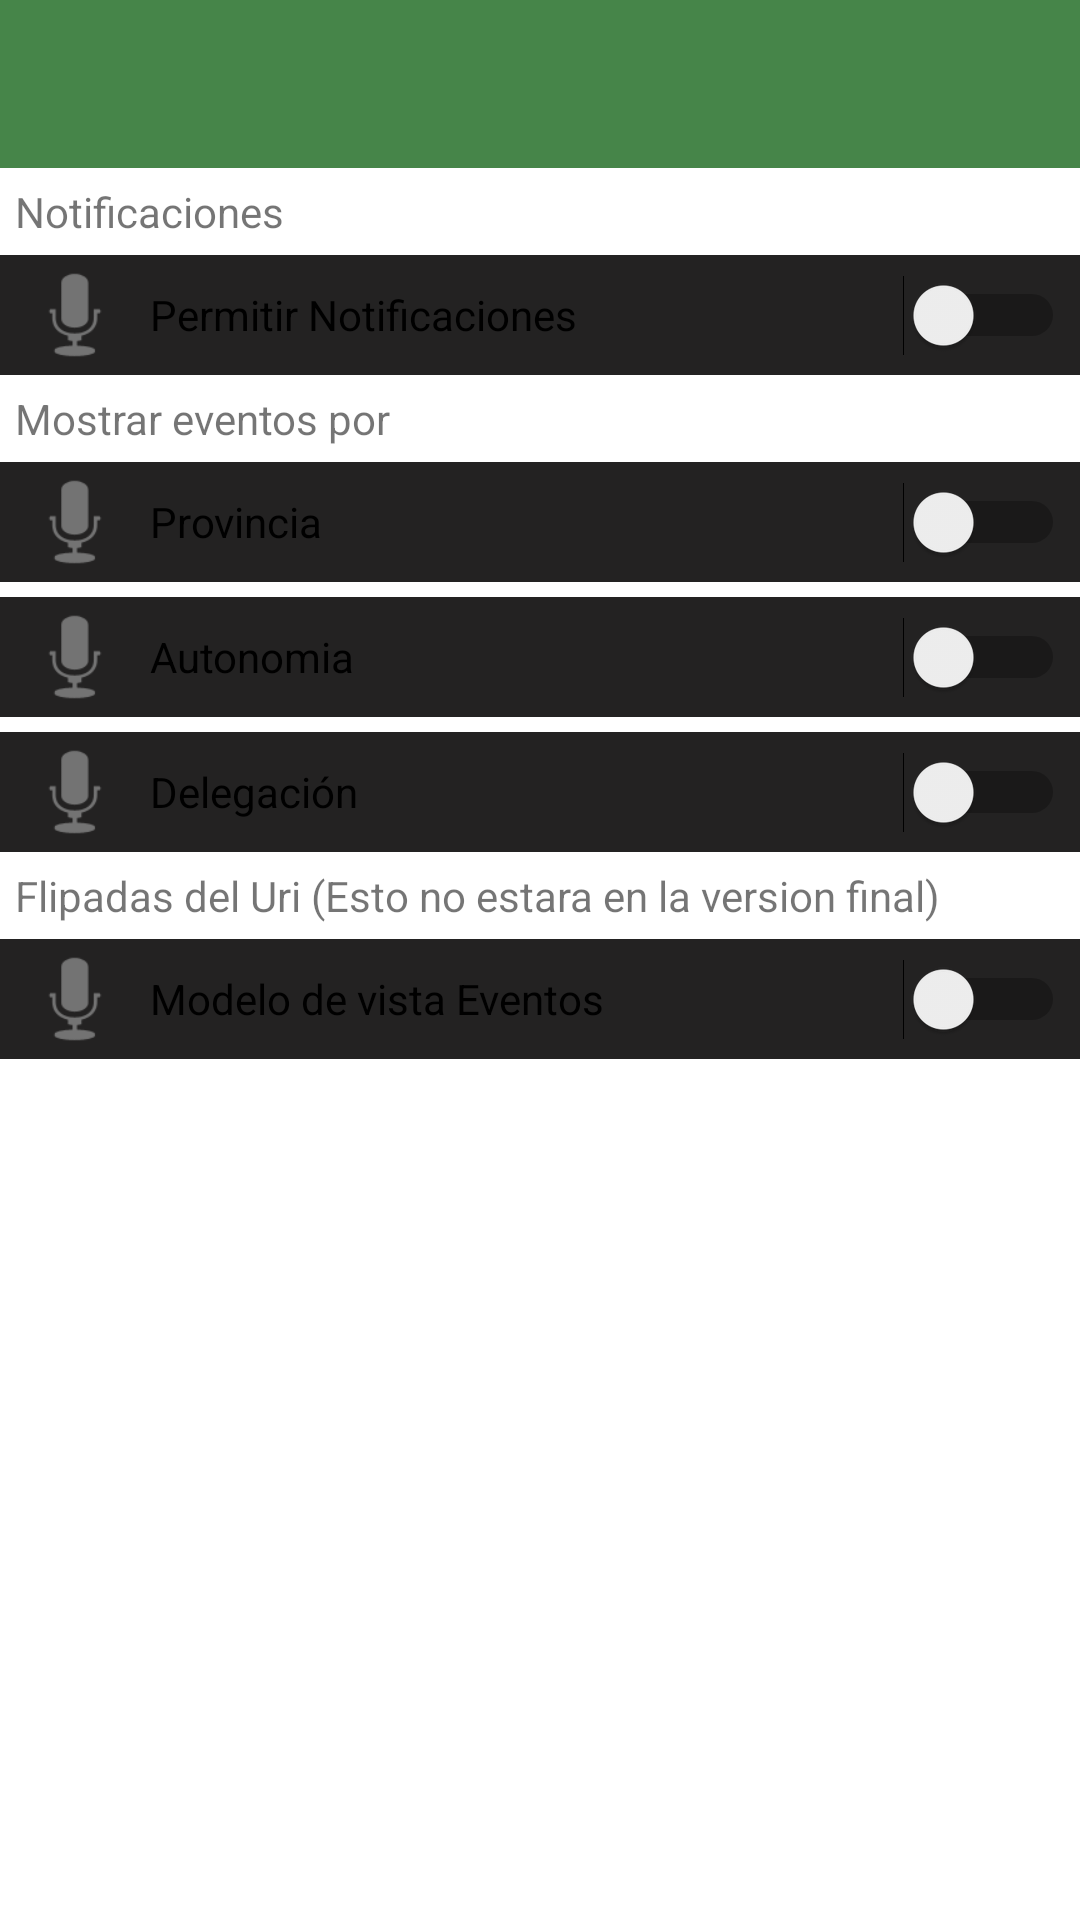

Named icons in this screenshot (1080px x 1920px) and their centers, (x,y):
speak now: (75,315), (75,522), (75,657), (75,792), (75,999)
